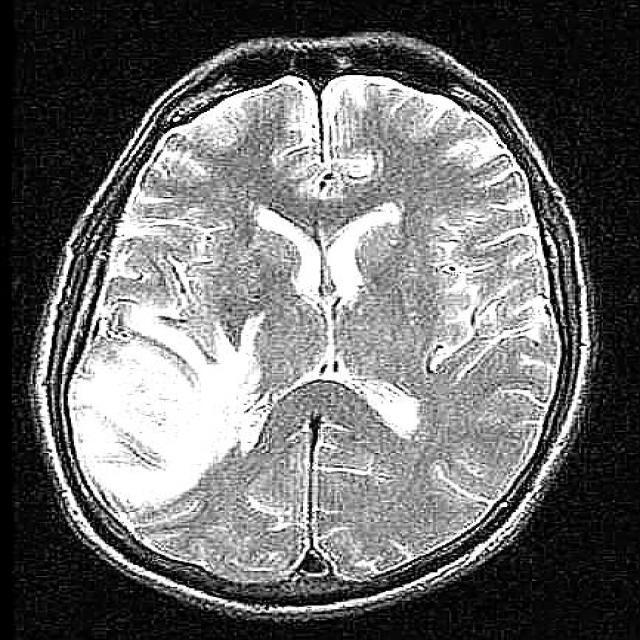Tumor: (60, 297, 267, 519)
